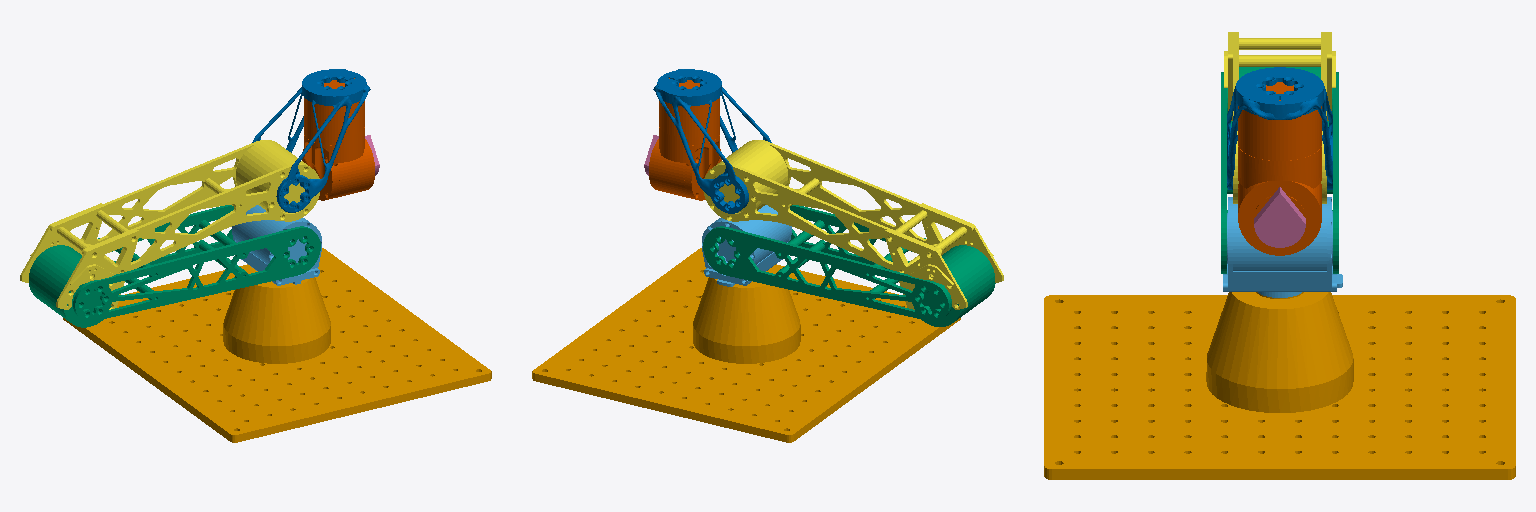
URDF robot description (swingboy_v1):
<?xml version="1.0" ?>
<!-- =================================================================================== -->
<!-- |    This document was autogenerated by xacro from robot.xacro                    | -->
<!-- |    EDITING THIS FILE BY HAND IS NOT RECOMMENDED                                 | -->
<!-- =================================================================================== -->
<robot name="swingboy_v1">
  <!--    <xacro:include filename="$(find upright_asset)/description/urdf/common/materials.xacro"/>-->
  <link name="arm_base_link">
    <inertial>
      <origin rpy="0 0 0" xyz="0.00006 -0.000046 0.0129"/>
      <mass value="6.722526"/>
      <inertia ixx="0.049640000000000004" ixy="-6.571312e-06" ixz="-9.063940000000001e-07" iyy="0.03882" iyz="2.1181100000000002e-07" izz="0.08303"/>
    </inertial>
    <visual>
      <origin rpy="0 0 0" xyz="0 0 0"/>
      <geometry>
        <mesh filename="package://upright_asset/description/meshes/manipulator/base_link.stl"/>
      </geometry>
      <material name="silver"/>
    </visual>
    <collision>
      <origin rpy="0 0 0" xyz="0 0 0"/>
      <geometry>
        <mesh filename="package://upright_asset/description/meshes/manipulator/base_link.stl"/>
      </geometry>
    </collision>
  </link>
  <link name="link1">
    <inertial>
      <origin rpy="0 0 0" xyz="0.000002 -0.00531 0.034685"/>
      <mass value="1.103721"/>
      <inertia ixx="0.0005726" ixy="-5.4105e-08" ixz="-3.821000000000001e-09" iyy="0.0004953000000000001" iyz="1.2915759e-05" izz="0.0005383"/>
    </inertial>
    <visual>
      <origin rpy="0 0 0" xyz="0 0 0"/>
      <geometry>
        <mesh filename="package://upright_asset/description/meshes/manipulator/link1.stl"/>
      </geometry>
      <material name="silver"/>
    </visual>
    <collision>
      <origin rpy="0 0 0" xyz="0 0 0"/>
      <geometry>
        <mesh filename="package://upright_asset/description/meshes/manipulator/link1.stl"/>
      </geometry>
    </collision>
  </link>
  <link name="link2">
    <inertial>
      <origin rpy="0 0 0" xyz="-0.197351 -0.002165 0.000057"/>
      <mass value="0.2"/>
      <inertia ixx="0.0003837" ixy="-2.6179433000000002e-05" ixz="6.93218e-07" iyy="0.0018880000000000001" iyz="-5.850180000000001e-07" izz="0.00205"/>
    </inertial>
    <visual>
      <origin rpy="0 0 0" xyz="0 0 0"/>
      <geometry>
        <mesh filename="package://upright_asset/description/meshes/manipulator/link2.stl"/>
      </geometry>
      <material name="silver"/>
    </visual>
    <collision>
      <origin rpy="0 0 0" xyz="0 0 0"/>
      <geometry>
        <mesh filename="package://upright_asset/description/meshes/manipulator/link2.stl"/>
      </geometry>
    </collision>
  </link>
  <link name="link3">
    <inertial>
      <origin rpy="0 0 0" xyz="0.100486 -0.002073 0.028338"/>
      <mass value="0.85"/>
      <inertia ixx="0.001204" ixy="-5.1994358e-05" ixz="-0.00255" iyy="0.011300000000000001" iyz="-1.6633832e-05" izz="0.01076"/>
    </inertial>
    <visual>
      <origin rpy="0 0 0" xyz="0 0 0"/>
      <geometry>
        <mesh filename="package://upright_asset/description/meshes/manipulator/link3.stl"/>
      </geometry>
      <material name="silver"/>
    </visual>
    <collision>
      <origin rpy="0 0 0" xyz="0 0 0"/>
      <geometry>
        <mesh filename="package://upright_asset/description/meshes/manipulator/link3.stl"/>
      </geometry>
    </collision>
  </link>
  <link name="link4">
    <inertial>
      <origin rpy="0 0 0" xyz="0.02969 0.00192 0.03765"/>
      <mass value="0.056678"/>
      <inertia ixx="1.2622460000000002e-06" ixy="3.261e-08" ixz="-5.533339999999999e-07" iyy="1.3468290000000001e-06" iyz="4.118e-08" izz="9.75984e-07"/>
    </inertial>
    <visual>
      <origin rpy="0 0 0" xyz="0 0 0"/>
      <geometry>
        <mesh filename="package://upright_asset/description/meshes/manipulator/link4.stl"/>
      </geometry>
      <material name="silver"/>
    </visual>
    <collision>
      <origin rpy="0 0 0" xyz="0 0 0"/>
      <geometry>
        <mesh filename="package://upright_asset/description/meshes/manipulator/link4.stl"/>
      </geometry>
    </collision>
  </link>
  <link name="link5">
    <inertial>
      <origin rpy="0 0 0" xyz="0.001992 -0.000088 -0.053421"/>
      <mass value="0.598593"/>
      <inertia ixx="0.0007354000000000001" ixy="-4.49048e-07" ixz="3.7386443e-05" iyy="0.0007328" iyz="-2.1004300000000002e-07" izz="0.00023860000000000003"/>
    </inertial>
    <visual>
      <origin rpy="0 0 0" xyz="0 0 0"/>
      <geometry>
        <mesh filename="package://upright_asset/description/meshes/manipulator/link5.stl"/>
      </geometry>
      <material name="silver"/>
    </visual>
    <collision>
      <origin rpy="0 0 0" xyz="0 0 0"/>
      <geometry>
        <mesh filename="package://upright_asset/description/meshes/manipulator/link5.stl"/>
      </geometry>
    </collision>
  </link>
  <link name="link6">
    <inertial>
      <origin rpy="0 0 0" xyz="0 0 0"/>
      <mass value="0.001"/>
      <inertia ixx="1.0630412e-08" ixy="-1.0680000000000001e-19" ixz="8.357e-08" iyy="8.414108000000002e-06" iyz="0.0" izz="6.931832000000001e-06"/>
    </inertial>
    <visual>
      <origin rpy="0 0 0" xyz="0 0 0"/>
      <geometry>
        <mesh filename="package://upright_asset/description/meshes/manipulator/link6.stl"/>
      </geometry>
      <material name="silver"/>
    </visual>
    <collision>
      <origin rpy="0 0 0" xyz="0 0 0"/>
      <geometry>
        <mesh filename="package://upright_asset/description/meshes/manipulator/link6.stl"/>
      </geometry>
    </collision>
  </link>
  <joint name="joint1" type="revolute">
    <origin rpy="0 0 0" xyz="0 0 0.07925"/>
    <parent link="arm_base_link"/>
    <child link="link1"/>
    <axis xyz="0 0 1"/>
    <limit effort="150" lower="-1.57" upper="1.57" velocity="1.5"/>
  </joint>
  <joint name="joint2" type="revolute">
    <origin rpy="0 0 0" xyz="0 0 0.0365"/>
    <parent link="link1"/>
    <child link="link2"/>
    <axis xyz="0 1 0"/>
    <limit effort="150" lower="0" upper="1.57" velocity="1.5"/>
  </joint>
  <joint name="joint3" type="revolute">
    <origin rpy="0 0 0" xyz="-0.220 0 0"/>
    <parent link="link2"/>
    <child link="link3"/>
    <axis xyz="0 1 0"/>
    <limit effort="150" lower="-1.57" upper="0" velocity="1.5"/>
  </joint>
  <joint name="joint4" type="revolute">
    <origin rpy="0 0 0" xyz="0.220 0 0.057"/>
    <parent link="link3"/>
    <child link="link4"/>
    <axis xyz="0 1 0"/>
    <limit effort="150" lower="-1.5" upper="0.5" velocity="1.5"/>
  </joint>
  <joint name="joint5" type="revolute">
    <origin rpy="0 0 0" xyz="0.0615 0 0.0825"/>
    <parent link="link4"/>
    <child link="link5"/>
    <axis xyz="0 0 1"/>
    <limit effort="150" lower="-0.785" upper="0.785" velocity="1.5"/>
  </joint>
  <joint name="joint6" type="revolute">
    <origin rpy="0 0 0" xyz="0.0285 0 -0.0825"/>
    <parent link="link5"/>
    <child link="link6"/>
    <axis xyz="1 0 0"/>
    <limit effort="150" lower="-1.57" upper="1.57" velocity="1.5"/>
  </joint>
  <transmission name="joint1_tran">
    <type>transmission_interface/SimpleTransmission</type>
    <joint name="joint1">
      <hardwareInterface>hardware_interface/EffortJointInterface</hardwareInterface>
    </joint>
    <actuator name="joint1_motor">
      <hardwareInterface>hardware_interface/EffortJointInterface</hardwareInterface>
      <mechanicalReduction>1</mechanicalReduction>
    </actuator>
  </transmission>
  <transmission name="joint2_tran">
    <type>transmission_interface/SimpleTransmission</type>
    <joint name="joint2">
      <hardwareInterface>hardware_interface/EffortJointInterface</hardwareInterface>
    </joint>
    <actuator name="joint2_motor">
      <hardwareInterface>hardware_interface/EffortJointInterface</hardwareInterface>
      <mechanicalReduction>-1</mechanicalReduction>
    </actuator>
  </transmission>
  <transmission name="joint3_tran">
    <type>transmission_interface/SimpleTransmission</type>
    <joint name="joint3">
      <hardwareInterface>hardware_interface/EffortJointInterface</hardwareInterface>
    </joint>
    <actuator name="joint3_motor">
      <hardwareInterface>hardware_interface/EffortJointInterface</hardwareInterface>
      <mechanicalReduction>1</mechanicalReduction>
    </actuator>
  </transmission>
  <transmission name="joint4_tran">
    <type>transmission_interface/SimpleTransmission</type>
    <joint name="joint4">
      <hardwareInterface>hardware_interface/EffortJointInterface</hardwareInterface>
    </joint>
    <actuator name="joint4_motor">
      <hardwareInterface>hardware_interface/EffortJointInterface</hardwareInterface>
      <mechanicalReduction>-1</mechanicalReduction>
    </actuator>
  </transmission>
  <transmission name="joint5_tran">
    <type>transmission_interface/SimpleTransmission</type>
    <joint name="joint5">
      <hardwareInterface>hardware_interface/EffortJointInterface</hardwareInterface>
    </joint>
    <actuator name="joint5_motor">
      <hardwareInterface>hardware_interface/EffortJointInterface</hardwareInterface>
      <mechanicalReduction>-1</mechanicalReduction>
    </actuator>
  </transmission>
  <transmission name="joint6_tran">
    <type>transmission_interface/SimpleTransmission</type>
    <joint name="joint6">
      <hardwareInterface>hardware_interface/EffortJointInterface</hardwareInterface>
    </joint>
    <actuator name="joint6_motor">
      <hardwareInterface>hardware_interface/EffortJointInterface</hardwareInterface>
      <mechanicalReduction>1</mechanicalReduction>
    </actuator>
  </transmission>
  <gazebo>
    <plugin filename="libgazebo_ros_p3d.so" name="p3d_base_controller">
      <alwaysOn>true</alwaysOn>
      <updateRate>1000.0</updateRate>
      <bodyName>arm_base_link</bodyName>
      <topicName>ground_truth/state</topicName>
      <gaussianNoise>0</gaussianNoise>
      <frameName>world</frameName>
      <xyzOffsets>0 0 0</xyzOffsets>
      <rpyOffsets>0 0 0</rpyOffsets>
    </plugin>
  </gazebo>
</robot>

--- Render facts (derived) ---
3 views of the same robot in one strip: view 1: azimuth 30°, elevation 25°; view 2: azimuth 150°, elevation 25°; view 3: azimuth 270°, elevation 25° (orthographic).
Model swingboy_v1 with 7 links and 6 joints (6 revolute), rooted at arm_base_link, posed all joints at 0.
Links seen in each view (by area): view 1: arm_base_link, link3, link2, link5, link4, link1; view 2: arm_base_link, link3, link2, link5, link4, link1; view 3: arm_base_link, link5, link1, link4, link3, link2, link6.
Link boxes in pixels (x1=…): arm_base_link: x1=63, y1=248, x2=491, y2=442; link3: x1=20, y1=140, x2=319, y2=309; link2: x1=29, y1=205, x2=320, y2=327; link5: x1=302, y1=78, x2=374, y2=200; link4: x1=252, y1=69, x2=370, y2=212; link1: x1=232, y1=205, x2=321, y2=285; arm_base_link: x1=532, y1=248, x2=960, y2=442; link3: x1=703, y1=140, x2=1003, y2=309; link2: x1=703, y1=205, x2=995, y2=326; link5: x1=649, y1=78, x2=721, y2=200; link4: x1=653, y1=69, x2=771, y2=213; link1: x1=702, y1=205, x2=791, y2=286; arm_base_link: x1=1044, y1=292, x2=1515, y2=479; link5: x1=1238, y1=82, x2=1321, y2=255; link1: x1=1223, y1=197, x2=1342, y2=297; link4: x1=1227, y1=67, x2=1332, y2=189; link3: x1=1224, y1=32, x2=1335, y2=203; link2: x1=1221, y1=67, x2=1338, y2=273; link6: x1=1254, y1=187, x2=1305, y2=247.
Bounding box of the posed robot: 0.3955 × 0.32 × 0.2588 m (x, y, z).
Meshes: 7 distinct files referenced, 7 mesh visuals loaded (7 binary STL).
